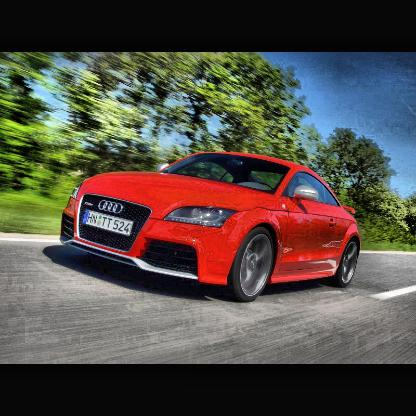Audi TT RS Coupe 2012: (59, 151, 363, 303)
